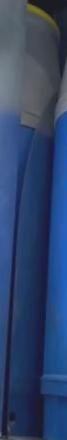cylinder: (0, 1, 67, 440)
